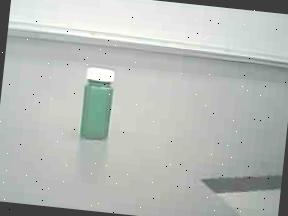Bottle C: (68, 57, 125, 150)
